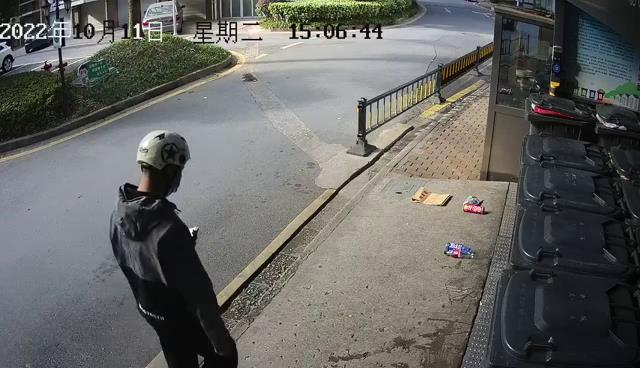lvzhipin: (441, 239, 476, 259), (462, 201, 486, 215)
person: (106, 127, 240, 367)
zhizhipin: (410, 185, 452, 208)
